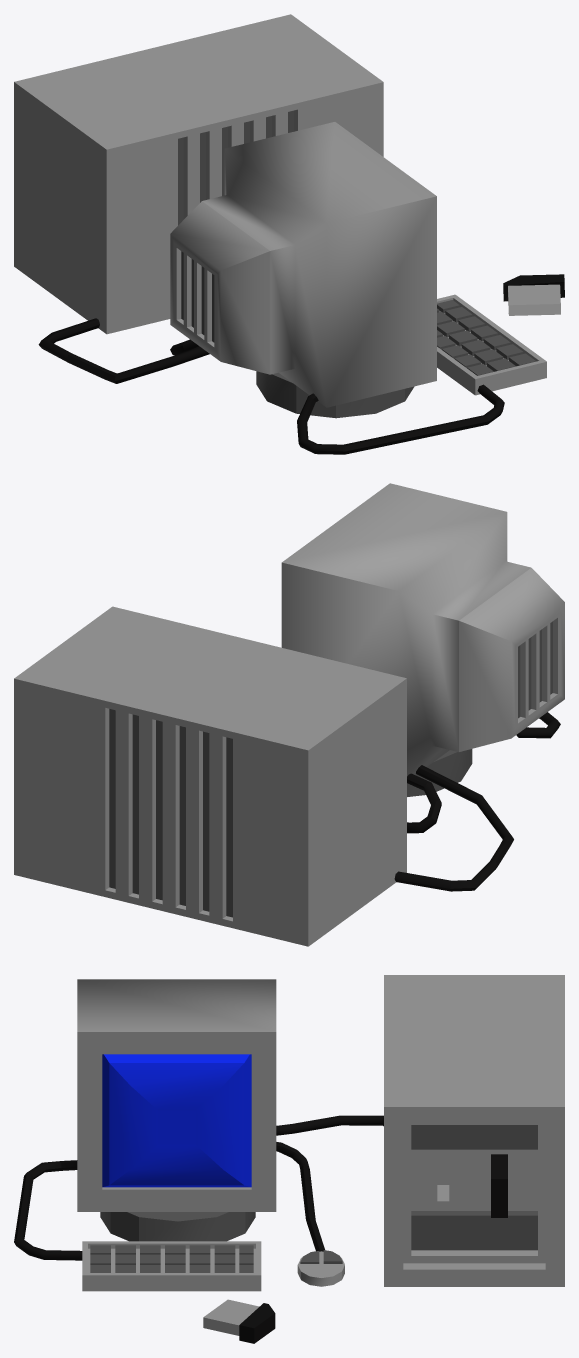
Rendered from sun.dae.
3 views of the same model, one above another, from view 1: azimuth 30°, elevation 25°; view 2: azimuth 150°, elevation 25°; view 3: azimuth 270°, elevation 25° (orthographic). The views are drawn at different scales.
Parts seen in each view (by area): view 1: Comp, Floppy.1; view 2: Comp; view 3: Comp, Floppy.1, Floppy.2.
Boxes of the visible parts, x1,y1,x2,y2 form: Comp: [14, 14, 546, 454]; Floppy.1: [503, 274, 564, 315]; Comp: [14, 483, 564, 946]; Comp: [14, 975, 564, 1291]; Floppy.1: [203, 1299, 275, 1343]; Floppy.2: [491, 1154, 507, 1217].
Bounding box in the file's own units: 519 × 233 × 554.
